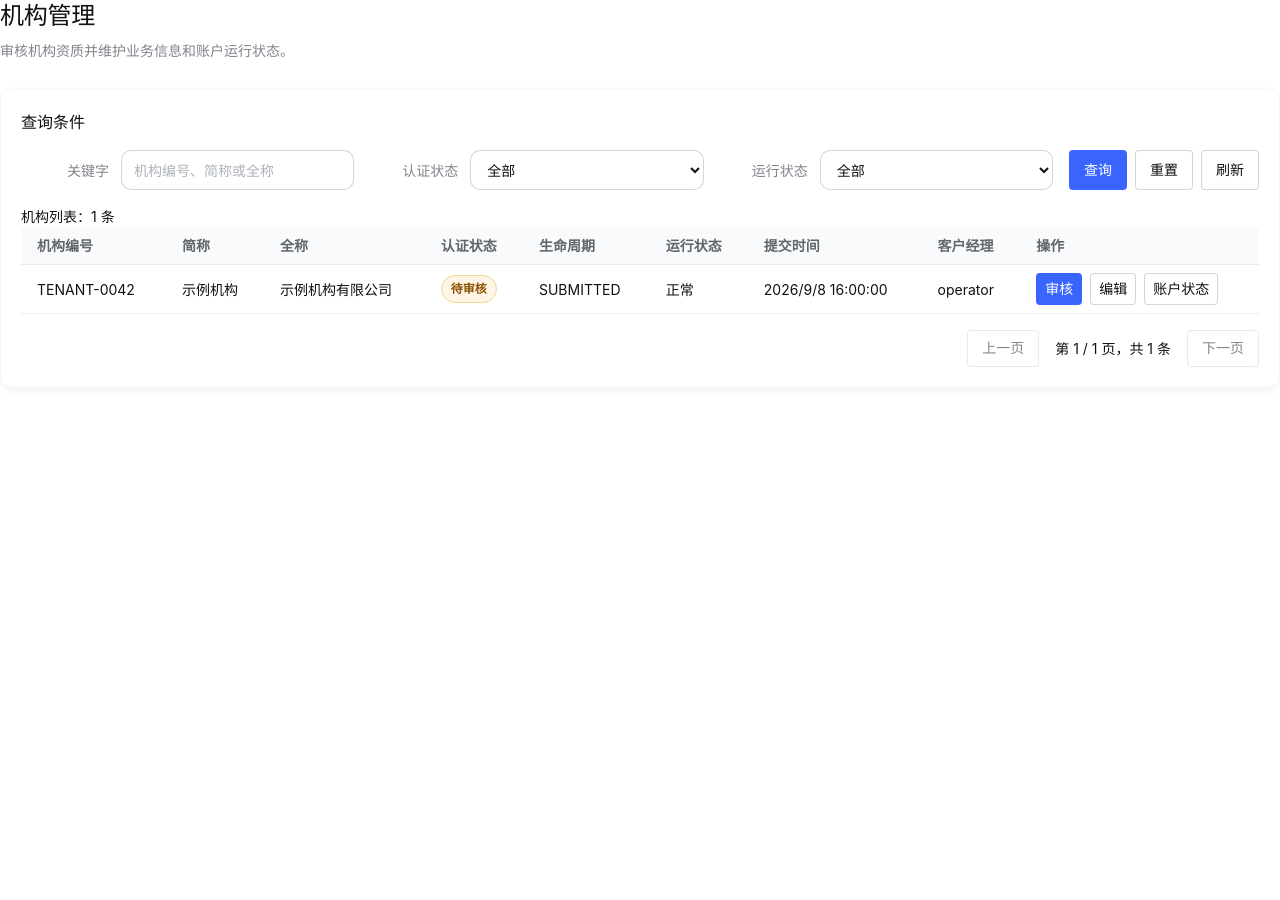
Test: Phase 08 tenant qualification production UI › requires fresh human confirmation when stale reconciliation changes review facts
This screenshot has width=1280, height=900.
expect the row with test id "admin-tenant-qualification-tenants-row" is shown: met, box [21,264,1259,314]
Click the button with test id "admin-tenant-qualification-tenants-review-open". click: (1059, 289)
box: [1036,273,1082,305]
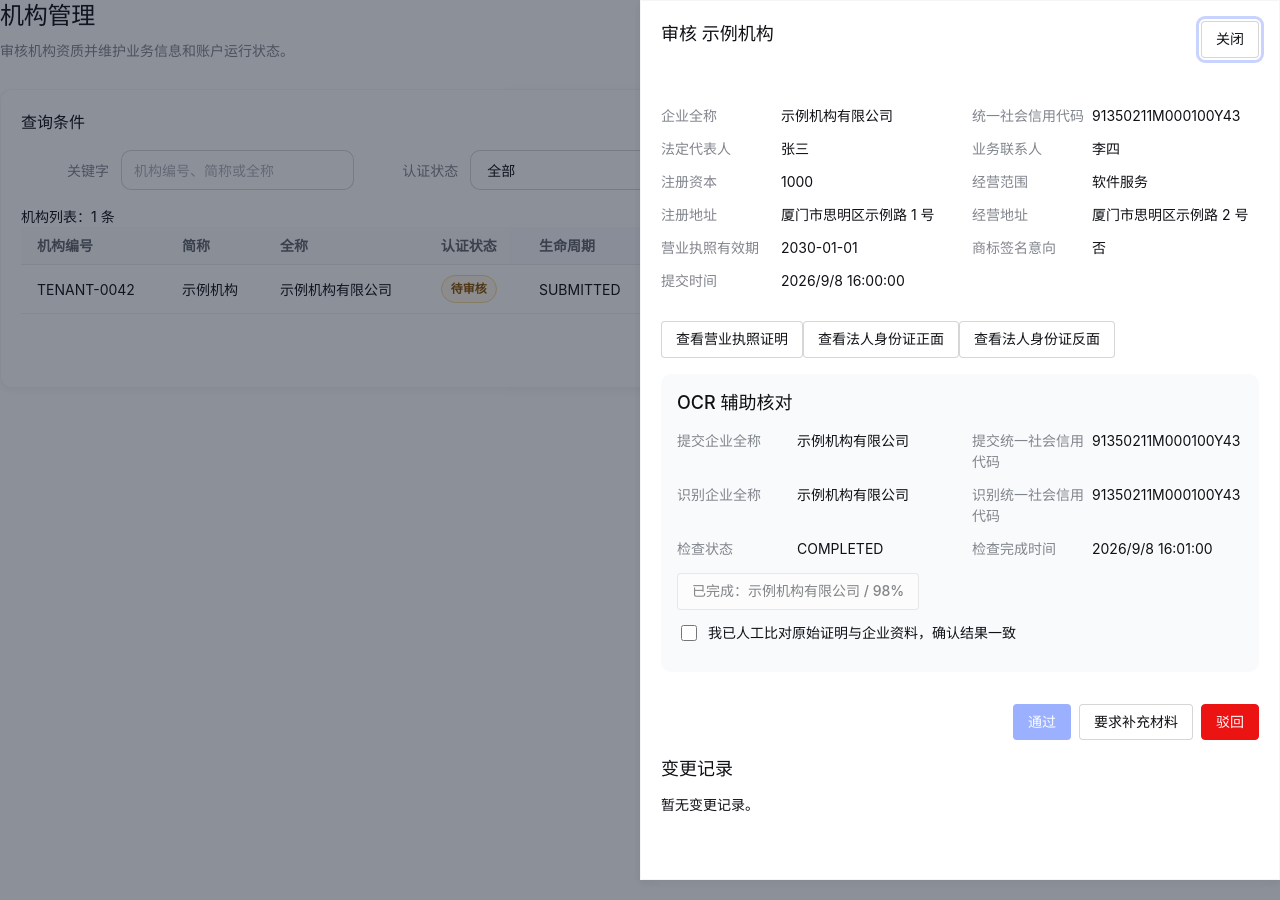
Click the checkbox with test id "admin-tenant-qualification-tenants-review-human-confirmed". click: (689, 633)
box: [681,625,697,641]
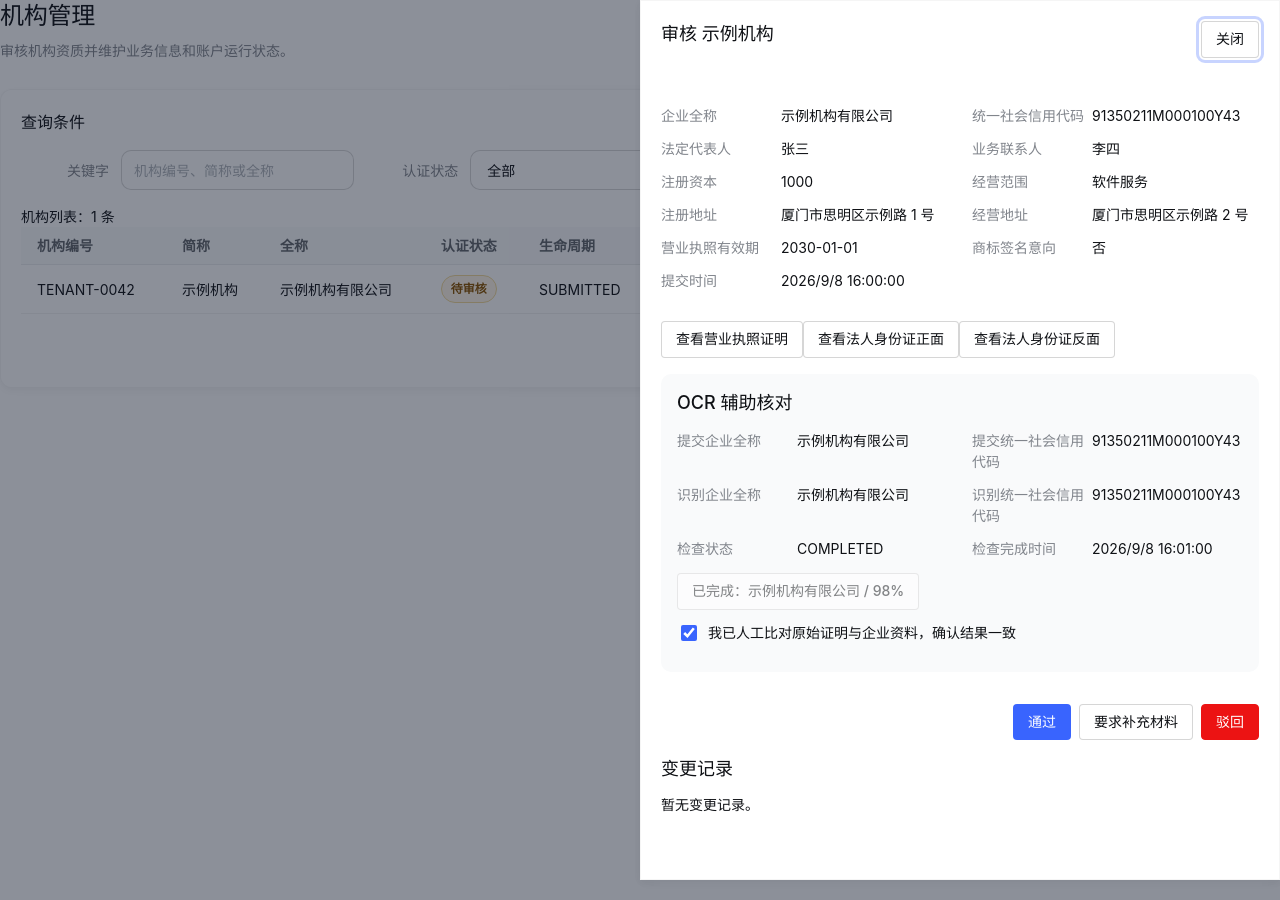
Click the button with test id "admin-tenant-qualification-tenants-review-approve-open". click: (1042, 722)
box: [1013,704,1071,740]
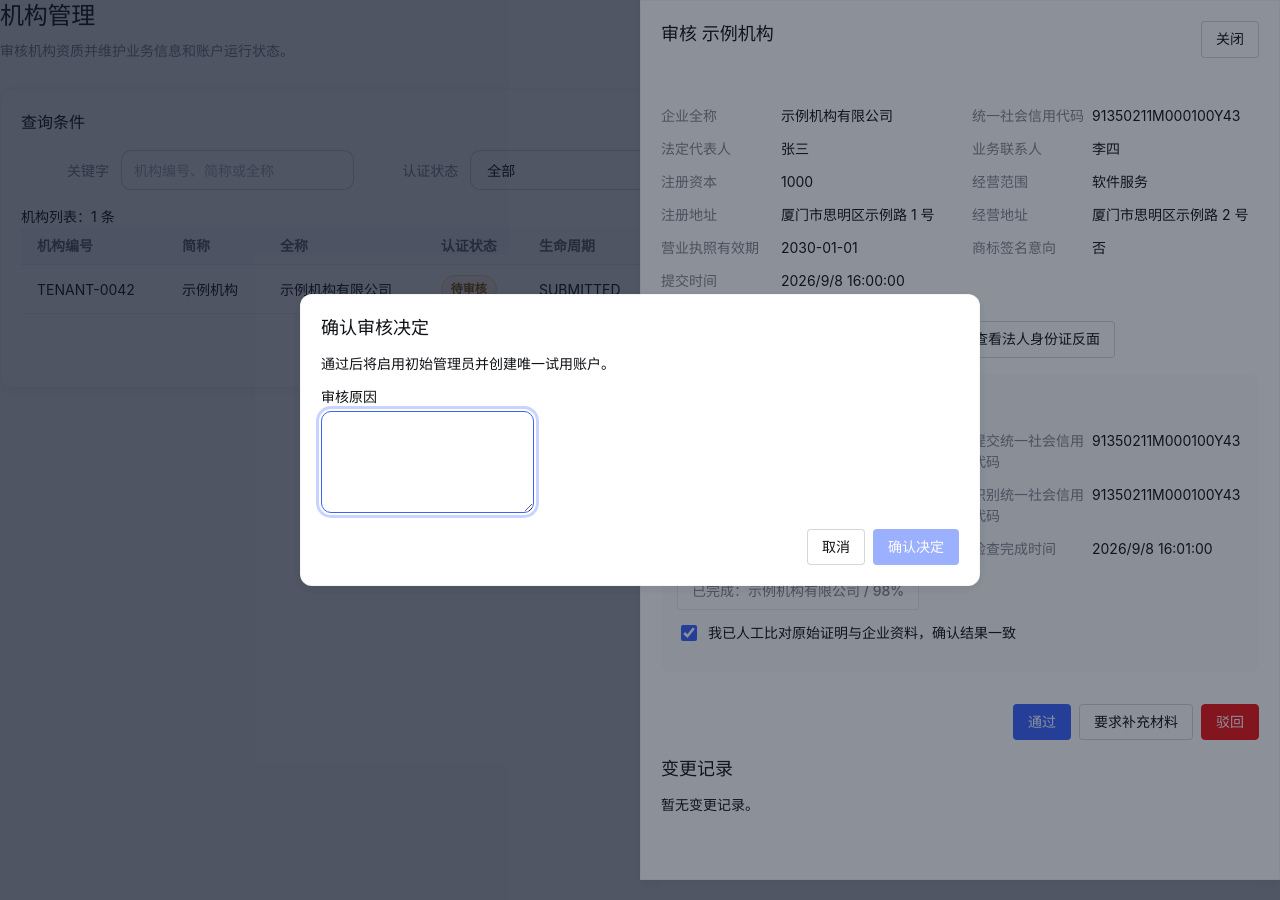
Type "资料核对一致" into the text box with test id "admin-tenant-qualification-tenants-review-decision-reason". click: (428, 462)
box: [321,411,534,513]
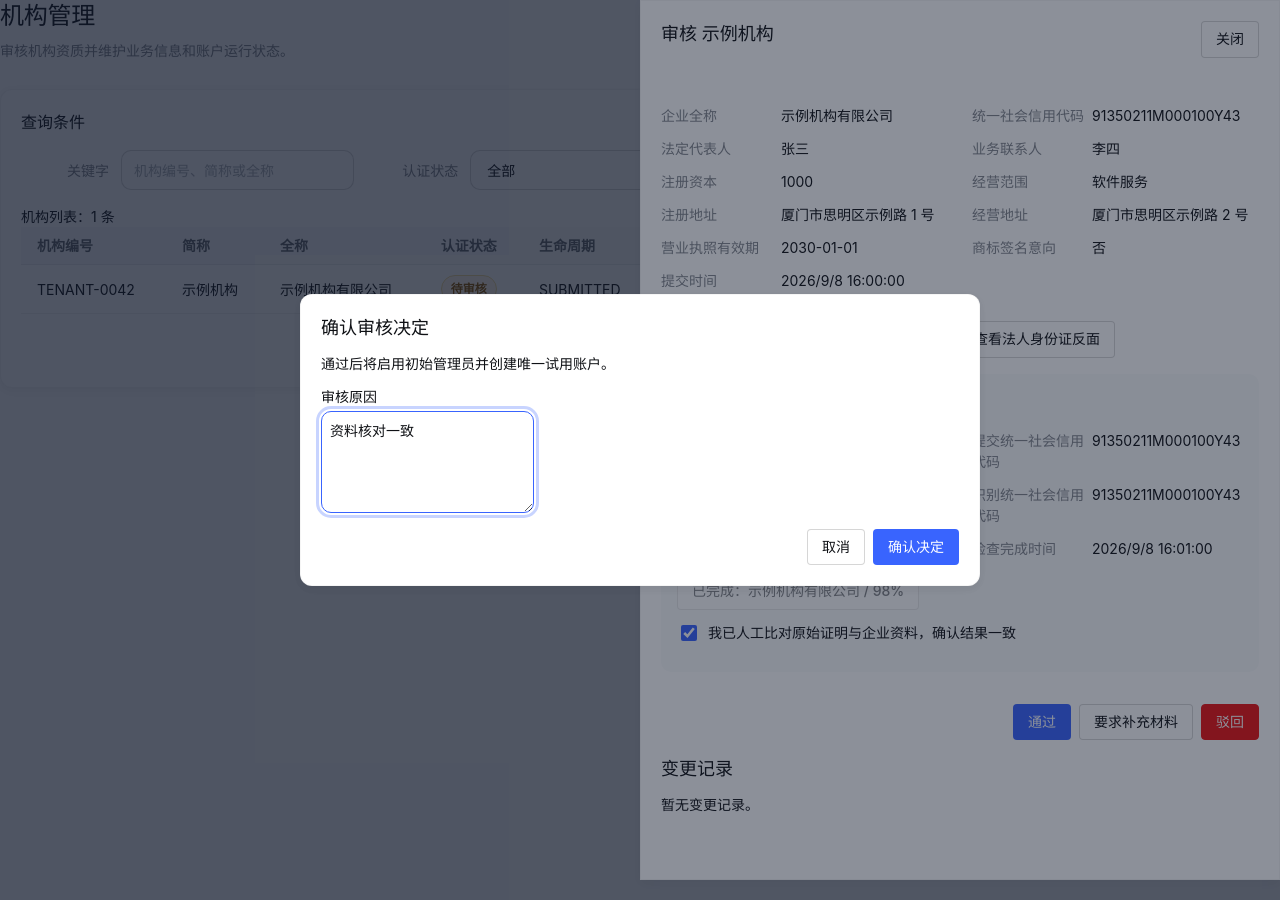
Click the button with test id "admin-tenant-qualification-tenants-review-decision-confirm". click: (916, 547)
box: [873,529,959,565]
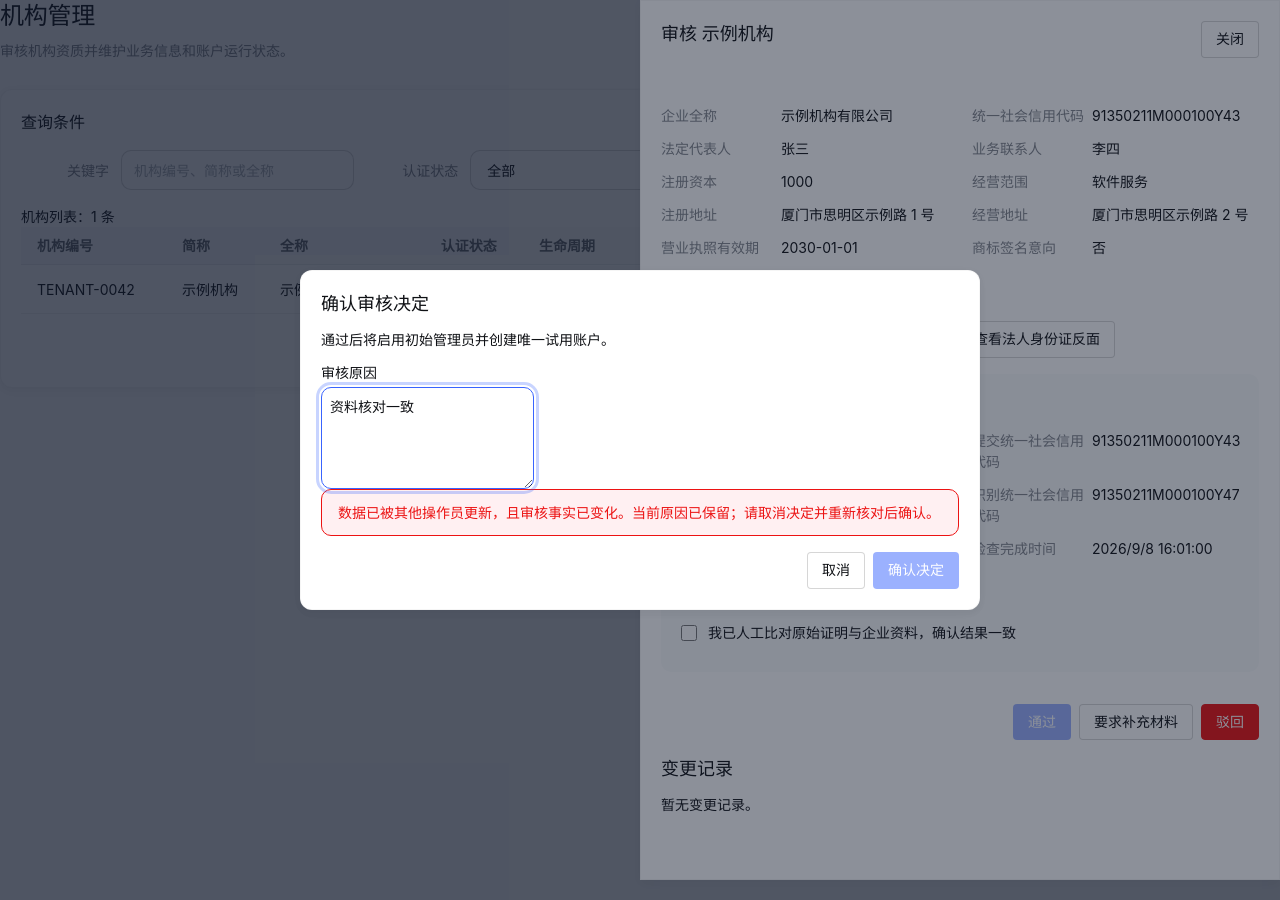
expect the checkbox with test id "admin-tenant-qualification-tenants-review-human-confirmed" is not checked: met, box [681,625,697,641]
expect the text "数据已被其他操作员更新，且审核事实已变化。当前原因已保留；请取消决定并重新核对后确认。" is shown: met, box [321,489,959,536]
expect the button with test id "admin-tenant-qualification-tenants-review-decision-confirm" is disabled: met, box [873,552,959,589]
